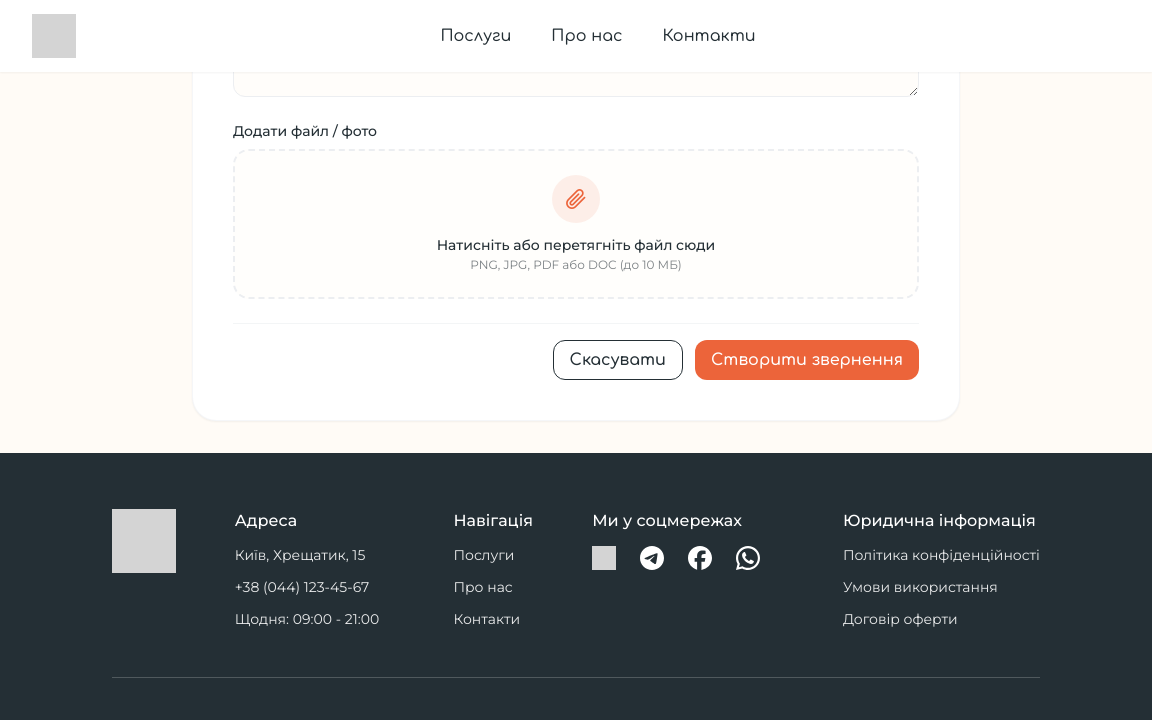
Scenario: CreateTicketPage › validates required fields when submitted empty
(page scrolled)
Click the button "Створити звернення" at (807, 360), box x1=695 y1=340 x2=919 y2=380
(page scrolled)
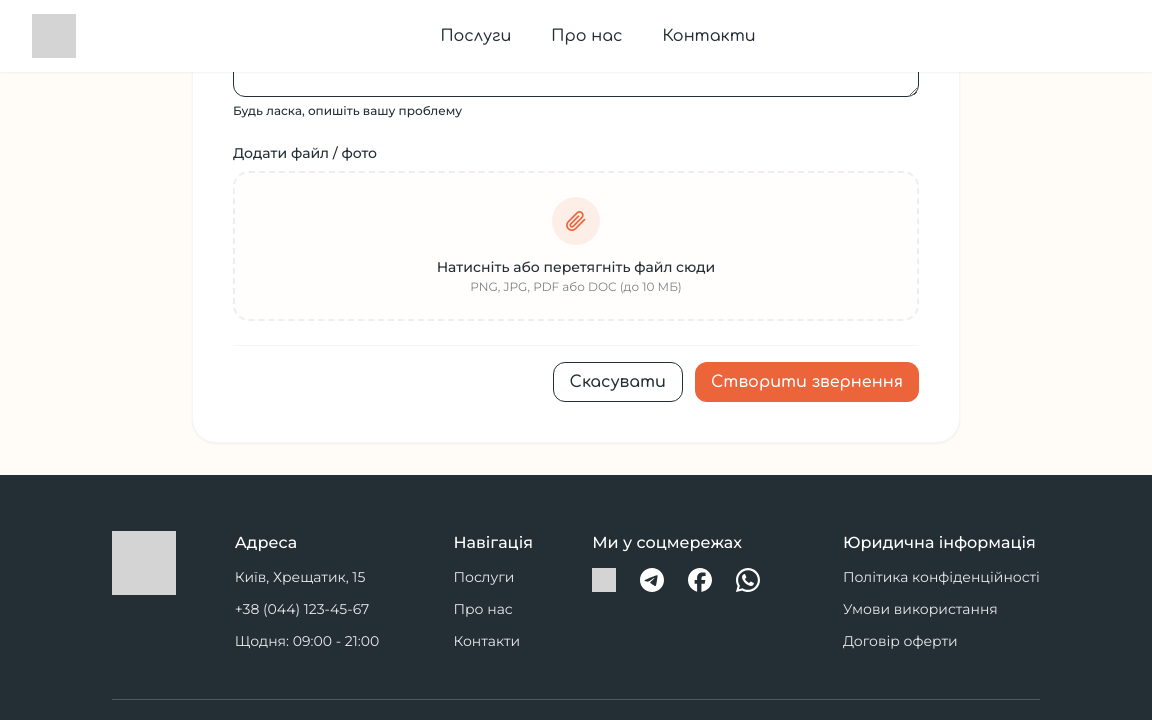
Expected: the text "Будь ласка, опишіть вашу проблему" is shown, x1=233 y1=103 x2=462 y2=118
